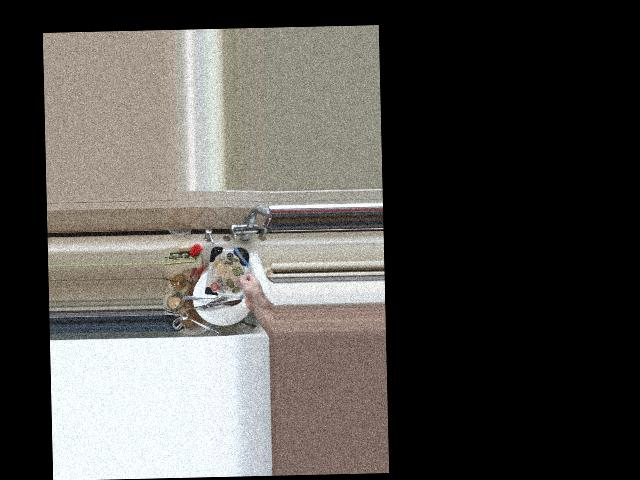cheese: (205, 242, 263, 307)
